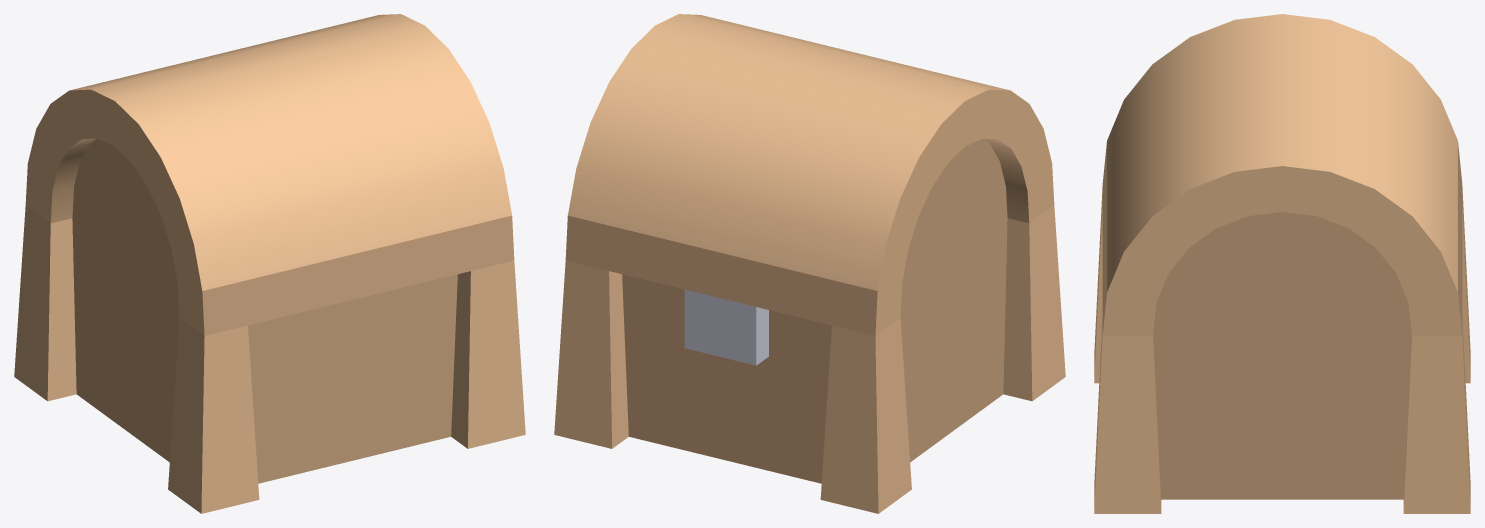
The picture shows the model from 3 angles, left to right: view 1: azimuth 30°, elevation 25°; view 2: azimuth 150°, elevation 25°; view 3: azimuth 270°, elevation 25°; orthographic projection.
Visible parts, largest first — view 1: lid, chest; view 2: lid, chest; view 3: lid, chest.
Boxes of the visible parts, x1,y1,x2,y2 form: lid: (25, 14, 514, 335); chest: (14, 205, 525, 513); lid: (565, 14, 1054, 335); chest: (554, 205, 1065, 513); lid: (1102, 14, 1462, 336); chest: (1094, 187, 1470, 513).
Bounding box in the file's own units: 0.2604 × 0.2628 × 0.2604.
